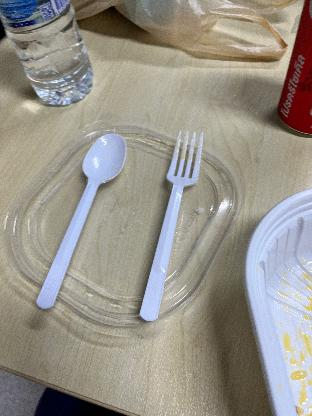Others: (125, 117, 214, 337), (28, 130, 130, 314)
